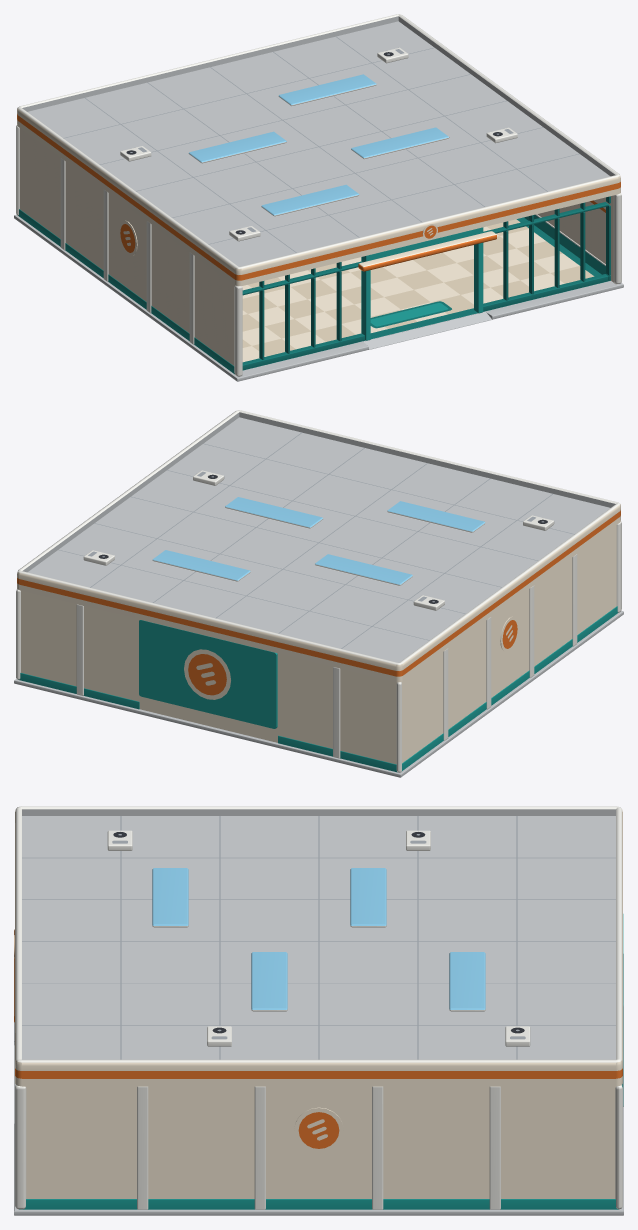
File: Terminal.fbx
3 views of the same model, one above another, from view 1: azimuth 30°, elevation 25°; view 2: azimuth 150°, elevation 25°; view 3: azimuth 270°, elevation 25° (orthographic). The views are drawn at different scales.
Parts seen in each view (by area): view 1: Terminal; view 2: Terminal; view 3: Terminal.
Part boxes in pixels (bbox=[...]): Terminal: bbox=[14, 14, 623, 381]; Terminal: bbox=[14, 410, 623, 777]; Terminal: bbox=[14, 806, 623, 1215].
Bounding box in the file's own units: 54 × 15 × 54.
1 material, 1 textured.
